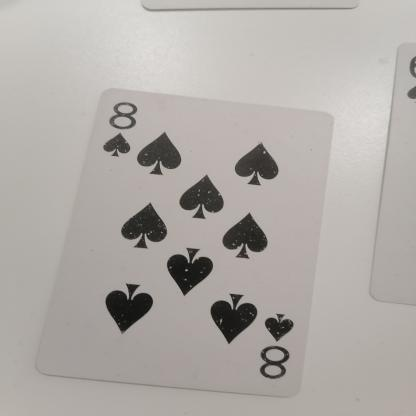8S: (254, 304, 311, 382), (96, 96, 157, 158)
